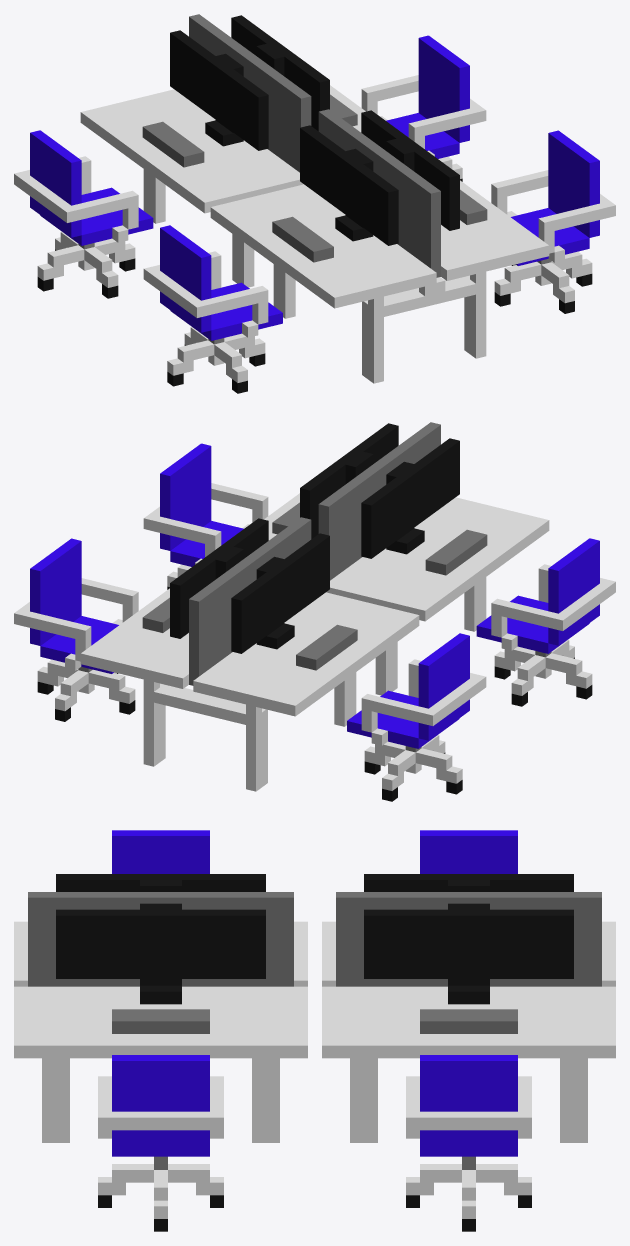
Rendered from 4er-tisch-verl-96-4er arbeitsplatz.obj.
The picture shows the model from 3 angles, top to bottom: view 1: azimuth 30°, elevation 25°; view 2: azimuth 150°, elevation 25°; view 3: azimuth 270°, elevation 25°; orthographic projection. The views are drawn at different scales.
Visible parts, largest first — view 1: 4er arbeitsplatz; view 2: 4er arbeitsplatz; view 3: 4er arbeitsplatz.
Part boxes in pixels (left/top/right/bottom): 4er arbeitsplatz: left=14, top=14, right=615, bottom=393; 4er arbeitsplatz: left=14, top=422, right=615, bottom=801; 4er arbeitsplatz: left=14, top=830, right=615, bottom=1231.
Size of the model in its own units: 4.1 by 1.7 by 4.3.
1 material, 1 textured.
